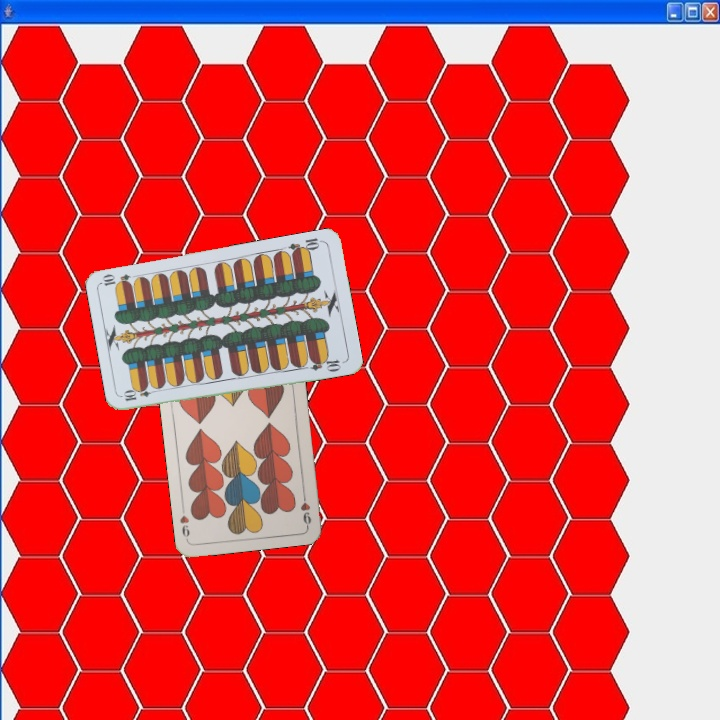E10: (285, 234, 325, 257), (120, 384, 160, 404)
H9: (297, 488, 314, 528)
